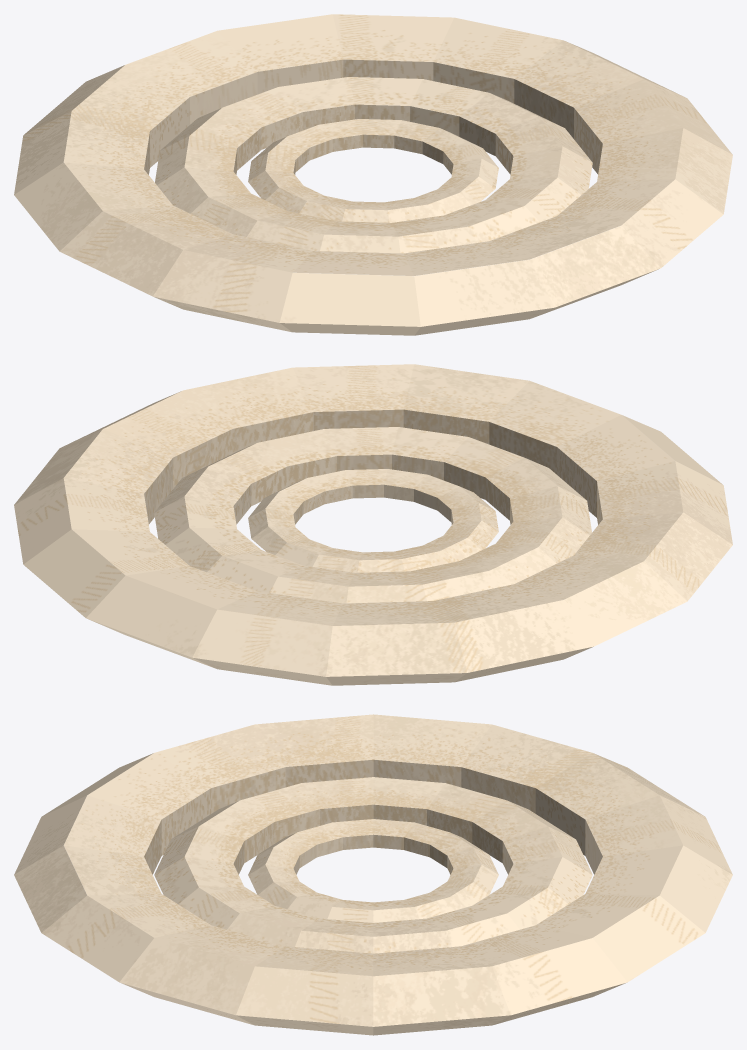
The model's file is CEBOLLA PICADA.fbx.
3 renders of one model, top to bottom at view 1: azimuth 30°, elevation 25°; view 2: azimuth 150°, elevation 25°; view 3: azimuth 270°, elevation 25°, orthographic.
Parts seen in each view (by area): view 1: cebolla; view 2: cebolla; view 3: cebolla.
Boxes of the visible parts, x1,y1,x2,y2 form: cebolla: (14, 14, 732, 335); cebolla: (14, 364, 732, 685); cebolla: (14, 714, 732, 1035).
Bounding box in the file's own units: 250 × 22.71 × 250.
